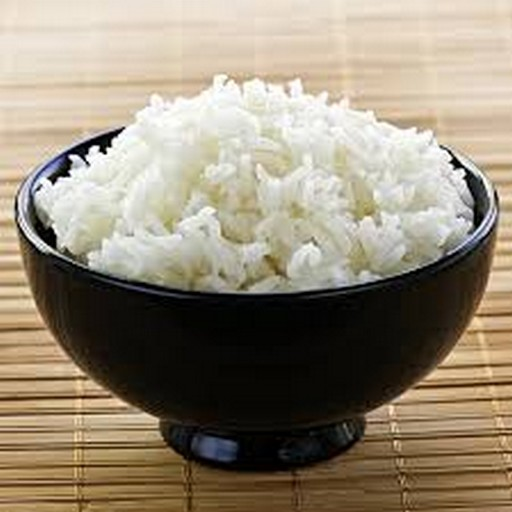rice: (155, 179, 375, 277)
